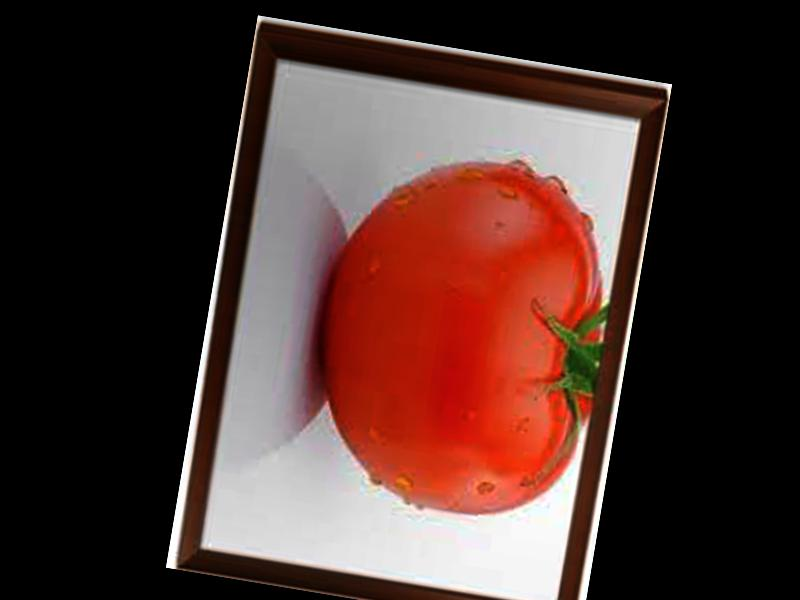Tomato: (294, 138, 631, 531)
